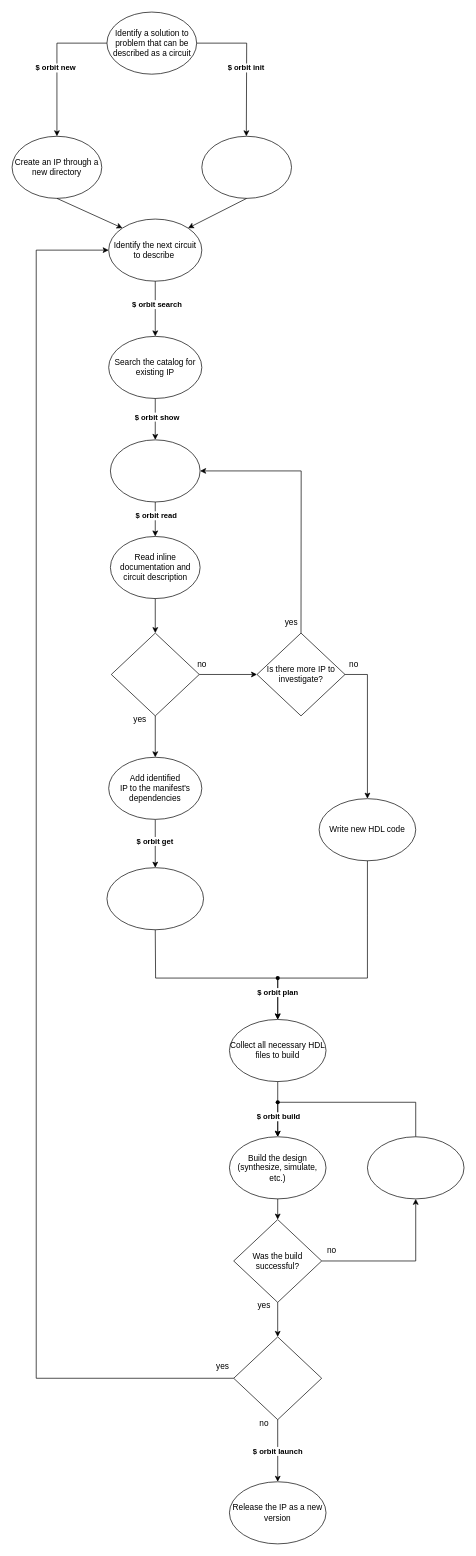
The diagram is 476 pixels wide and 1556 high, and some of its shapes have lost their labels. The shapes that lost their labels are listed below. From the top down, each one's box as (x1, y1, x2, y2) in pixels, then its label:
(201, 136, 292, 198): Initialize an IP through an existing directory
(110, 439, 200, 502): Query more information about an identified IP
(111, 632, 199, 716): Is there a suitable circuit to reuse?
(106, 867, 204, 930): Request the HDL instantiation code to integrate into current design
(367, 1136, 464, 1199): Debug issues
(233, 1336, 322, 1420): Are there more circuits to design?
